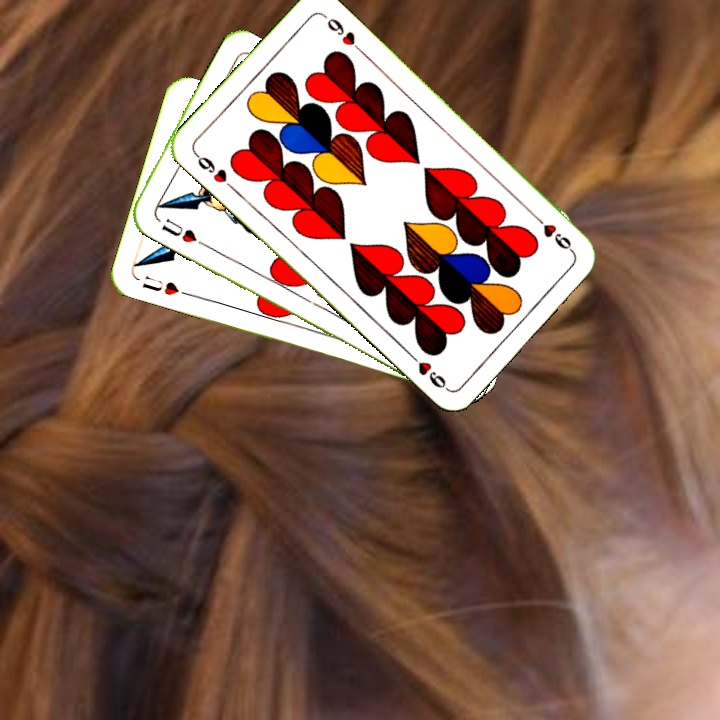H9: (190, 148, 237, 193), (529, 210, 576, 255)
HU: (138, 271, 192, 299), (157, 214, 200, 246)
